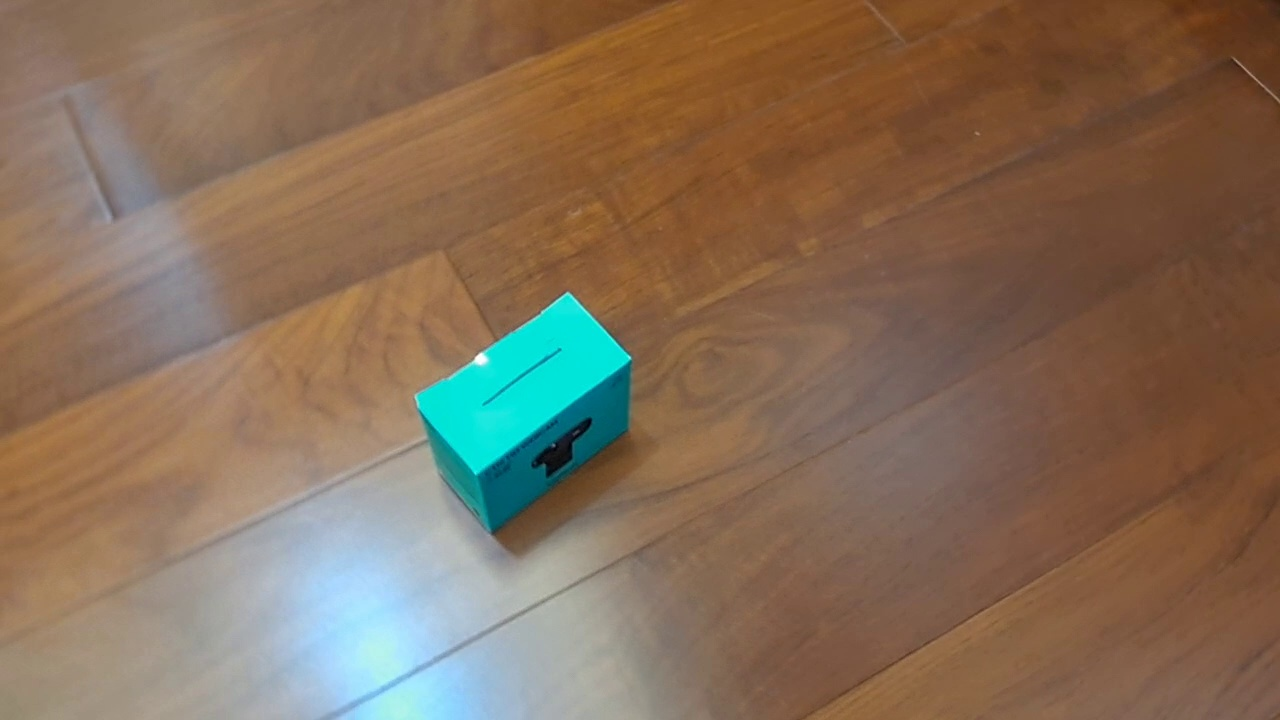webcam: (413, 290, 633, 534)
